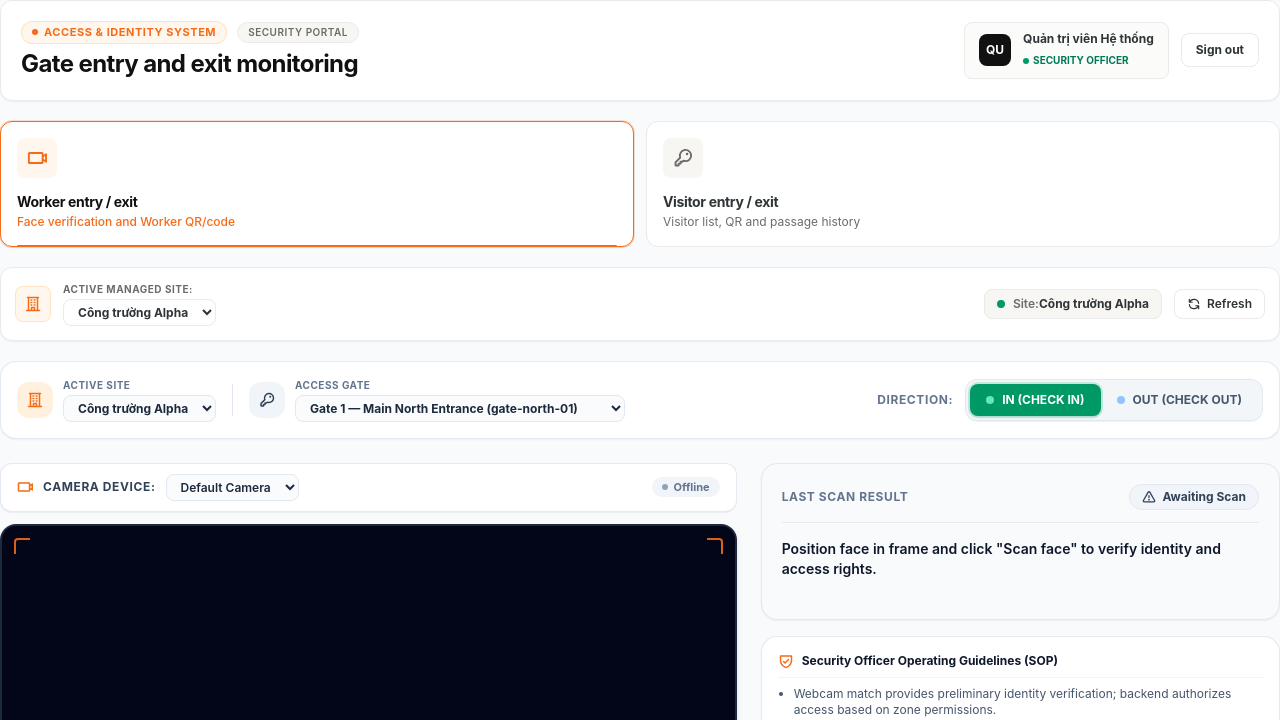
Test: Site Access ERD integration › Security has worker and visitor gate operations without approval or permission controls
expect the button "Worker entry / exit Face verification and Worker QR/code" is shown: met, box [0, 120, 634, 246]
Click the button "Visitor entry / exit Visitor list, QR and passage history". click: (683, 158)
box: [646, 120, 1279, 246]
(page scrolled)
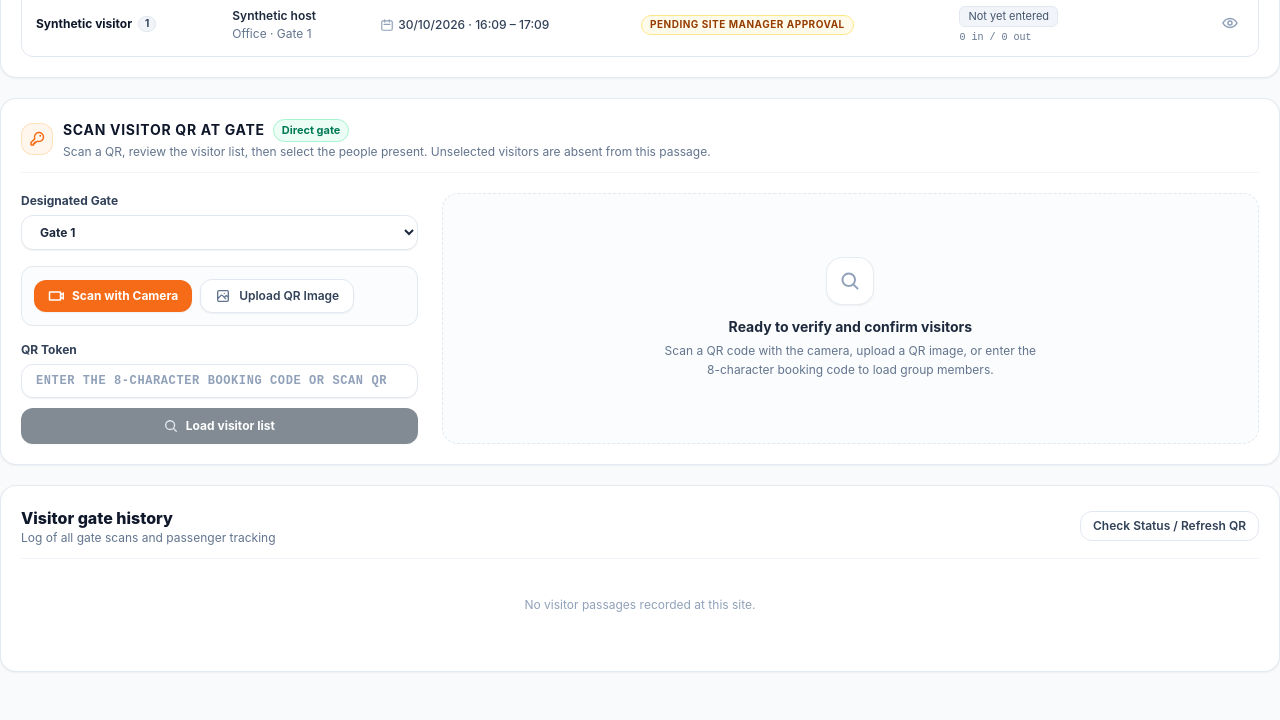
expect the text "Synthetic visitor" is shown: met, box [36, 16, 132, 32]
expect the button "Load visitor list" is shown: met, box [21, 408, 418, 444]
